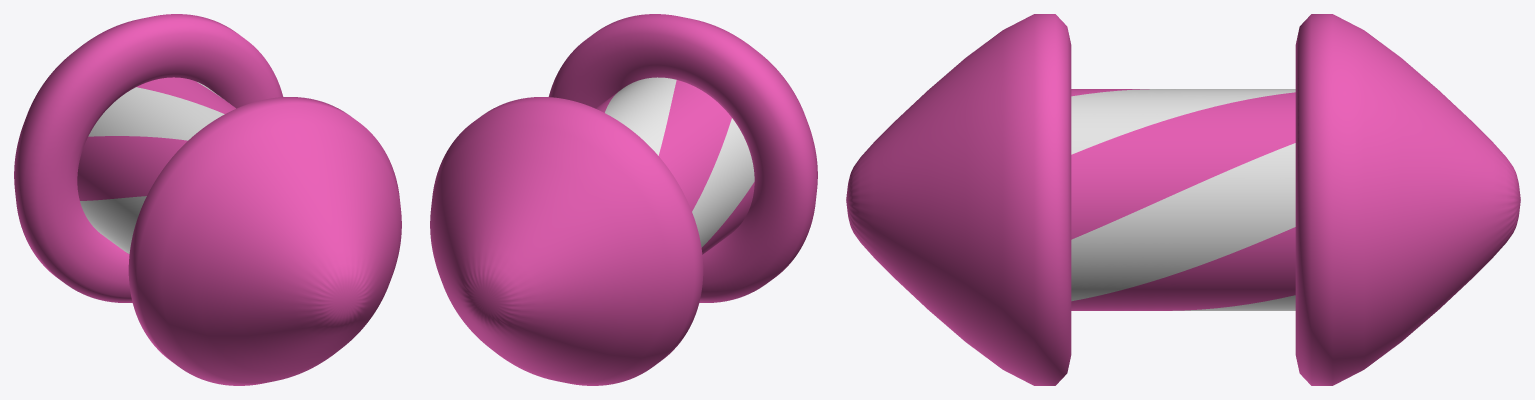
Rendered from Rocket.fbx.
3 views of the same model, side by side, from view 1: azimuth 30°, elevation 25°; view 2: azimuth 150°, elevation 25°; view 3: azimuth 270°, elevation 25° (orthographic). The views are drawn at different scales.
Parts seen in each view (by area): view 1: Rocket; view 2: Rocket; view 3: Rocket.
Boxes of the visible parts, <box> form: Rocket: <box>14,14,401,385</box>; Rocket: <box>430,14,817,385</box>; Rocket: <box>846,14,1520,385</box>.
Bounding box in the file's own units: 0.4292 × 0.4292 × 0.7785.
